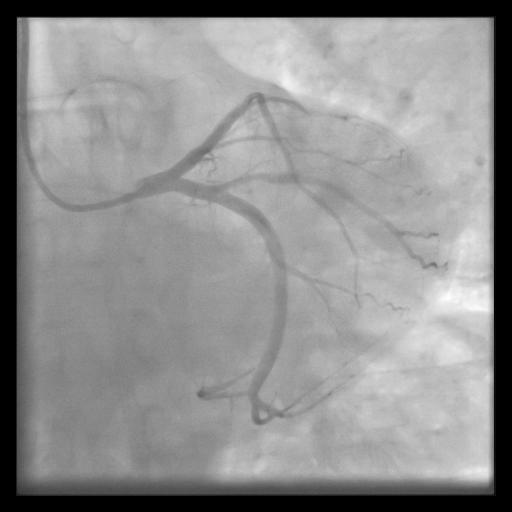Stenosis: (233, 168, 267, 186)
